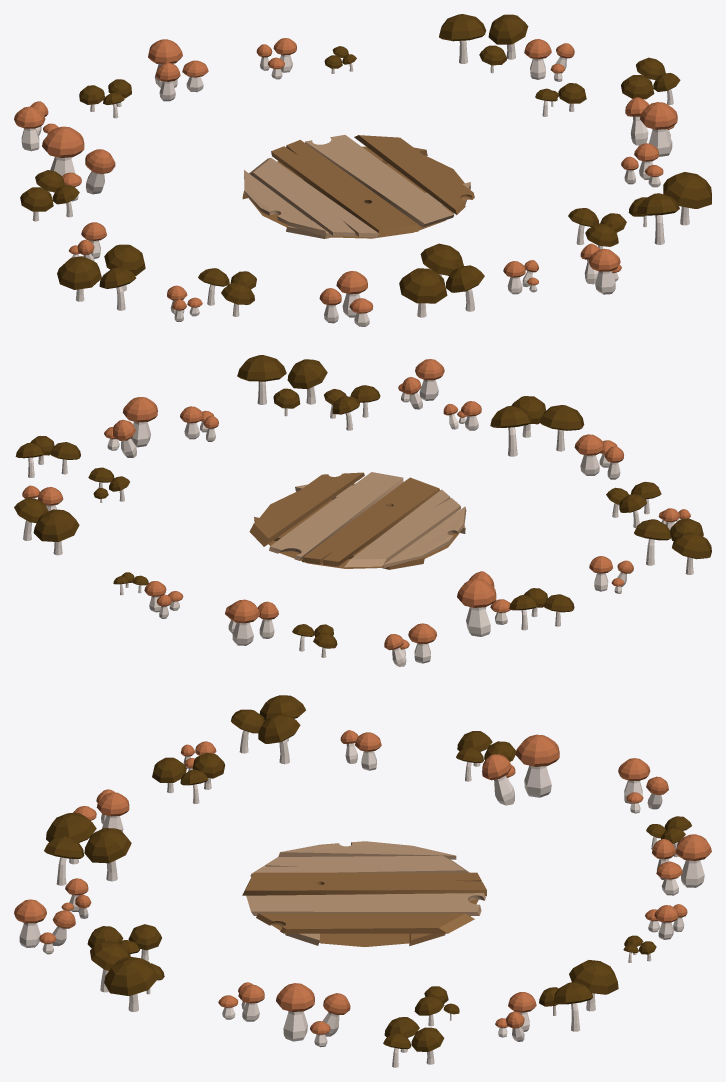
File: WitchRound.fbx
3 views of the same model, one above another, from view 1: azimuth 30°, elevation 25°; view 2: azimuth 150°, elevation 25°; view 3: azimuth 270°, elevation 25° (orthographic). The views are drawn at different scales.
Visible parts, largest first — view 1: plank2; view 2: plank2; view 3: plank2.
Boxes of the visible parts, x1,y1,x2,y2 form: plank2: (14, 14, 711, 326); plank2: (14, 355, 711, 666); plank2: (14, 695, 711, 1067).
Size of the model in its own units: 5.65 by 4.88 by 0.4539.
